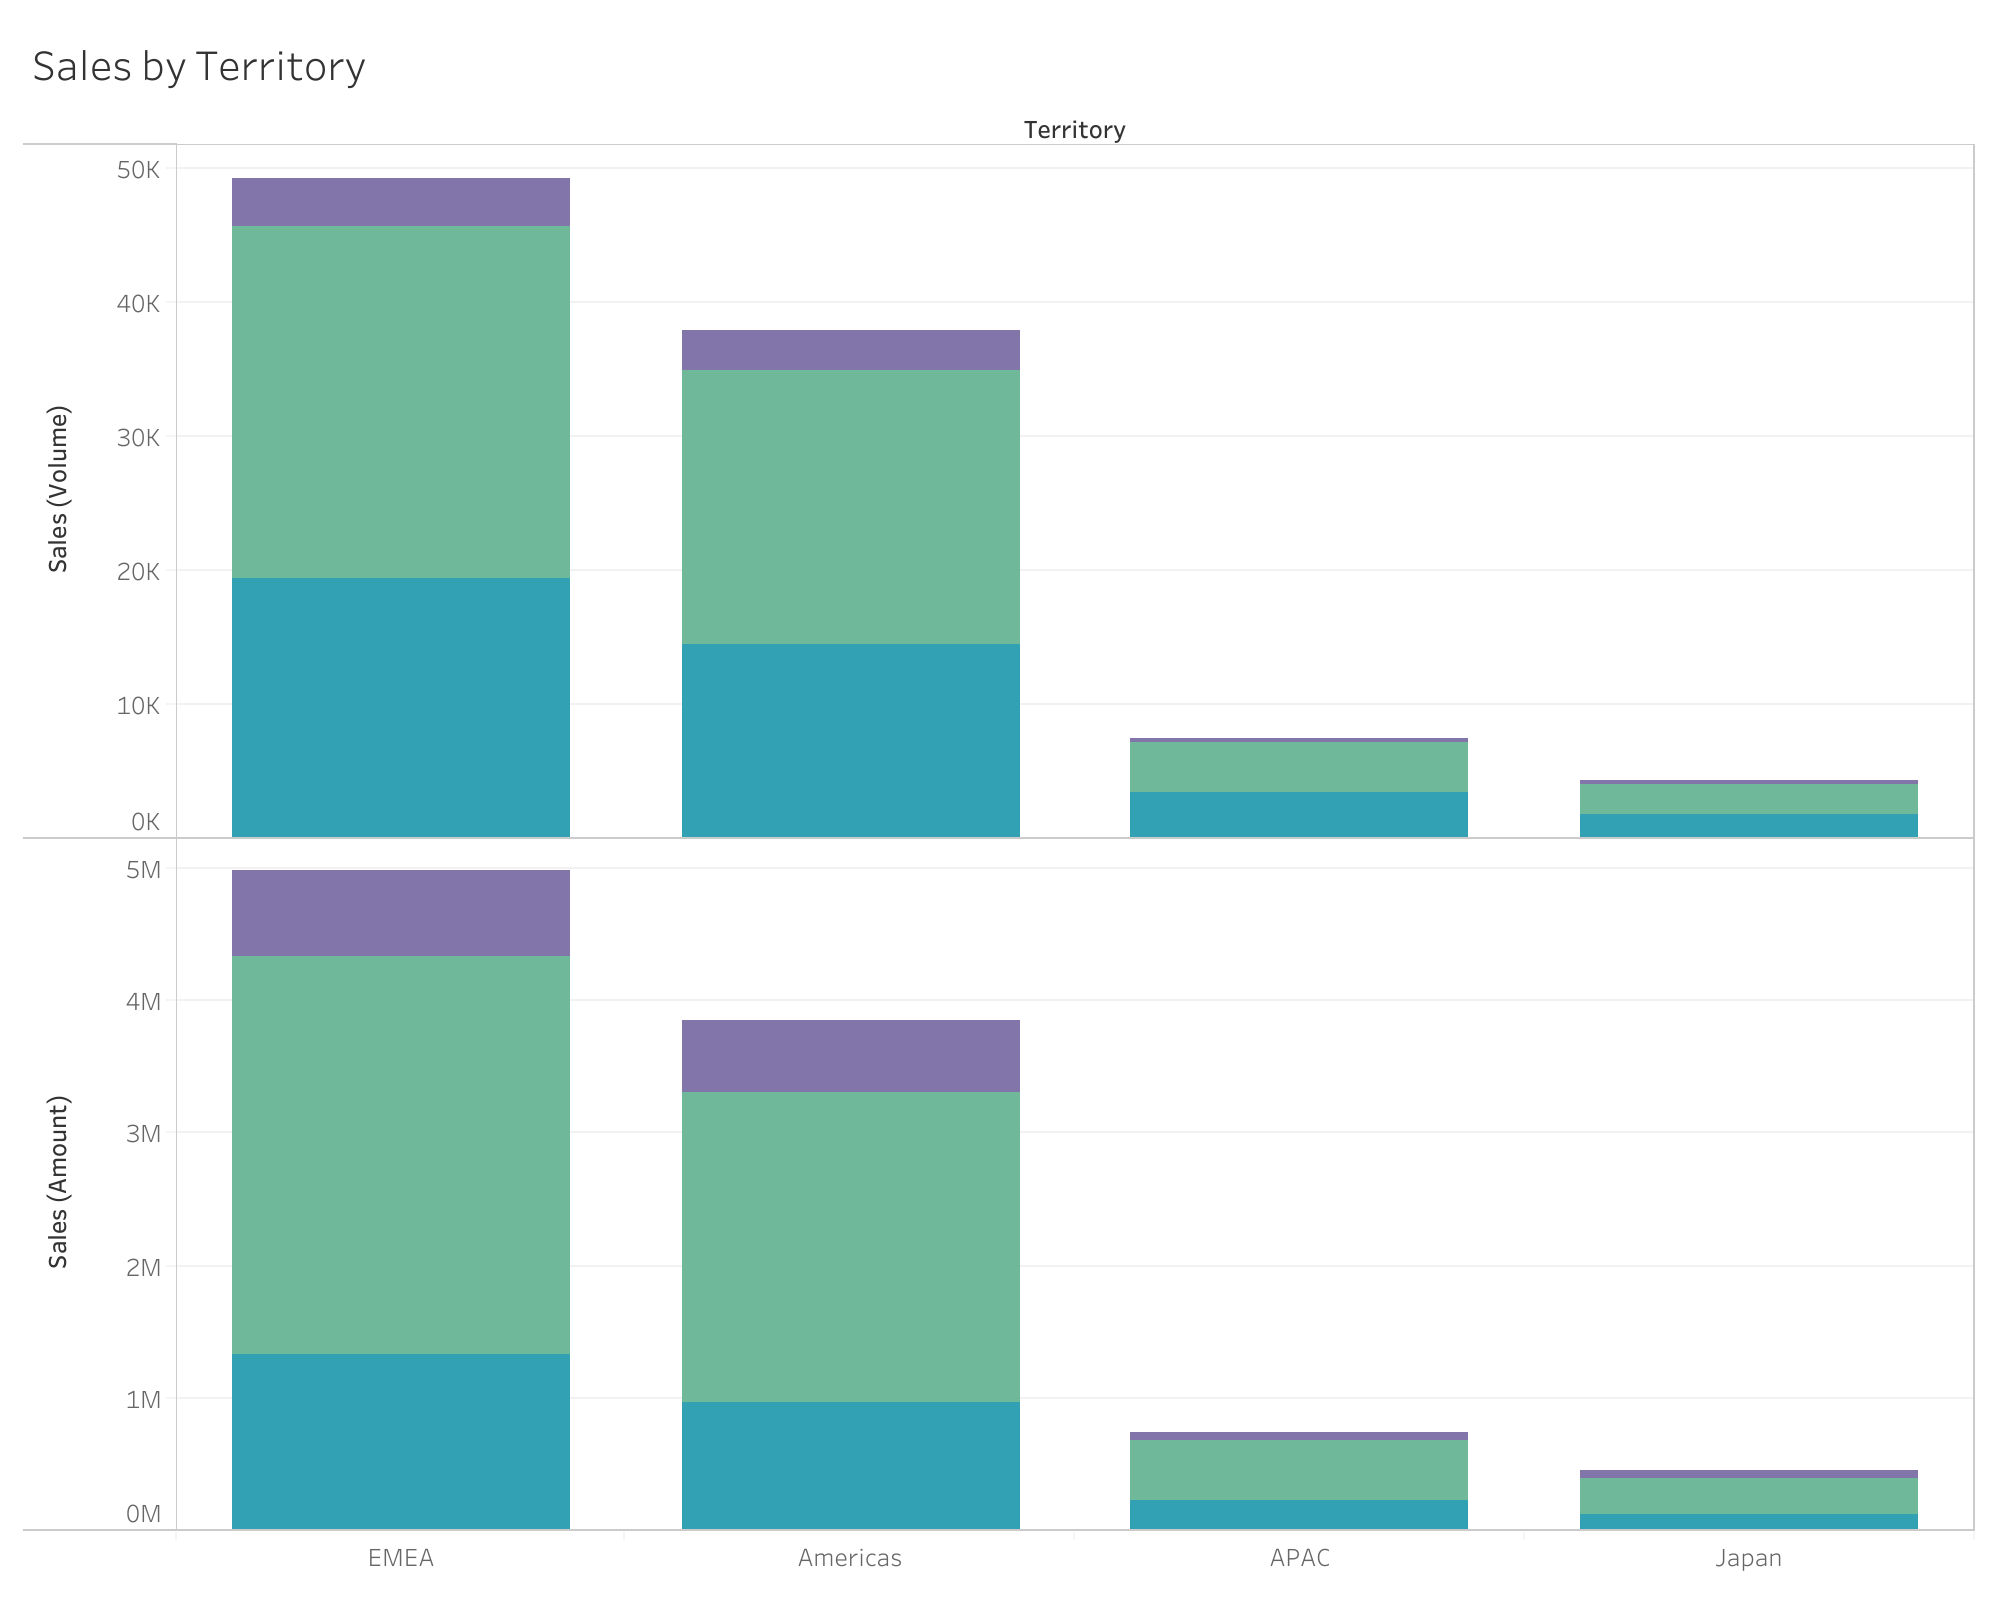

This screenshot's page, from the dashboard's own definition file:
{"tool":"tableau","page":{"name":"Sales by Territory","canvas":[1000,800],"ordinal":3},"visuals":[{"type":"worksheet","title":"Sales by Territory Bar Chart","mark":"Automatic","rows":["QUANTITYORDERED","SALES"],"cols":["TERRITORY"],"box":[8,8,984,784]}]}

Visuals, with their boxes in screenshot pixels (x1, y1, x2, y2), scaled from the page's 1000x800 canvas onto the 1998x1598 screenshot:
"Sales by Territory Bar Chart" worksheet: region(16, 16, 1982, 1582)
